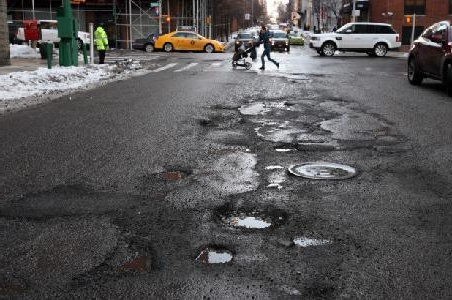pothole: (212, 203, 283, 232), (114, 243, 159, 277), (191, 239, 236, 266), (145, 165, 192, 183), (272, 143, 296, 153)
